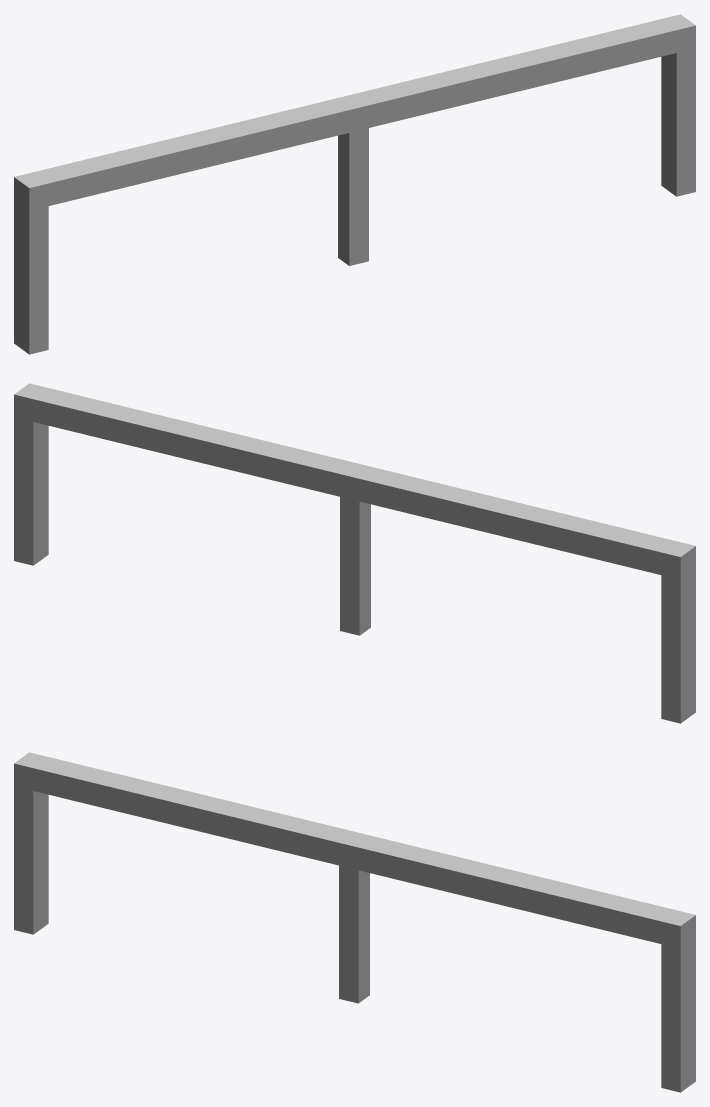
The model's file is rail_004.fbx.
3 views of the same model, one above another, from view 1: azimuth 30°, elevation 25°; view 2: azimuth 150°, elevation 25°; view 3: azimuth 330°, elevation 25° (orthographic).
Visible parts, largest first — view 1: rail_004; view 2: rail_004; view 3: rail_004.
Boxes of the visible parts, left/top/right/bottom form: rail_004: left=14, top=14, right=695, bottom=354; rail_004: left=14, top=383, right=695, bottom=723; rail_004: left=14, top=752, right=695, bottom=1092.
Bounding box in the file's own units: 286 × 68.35 × 11.39.
